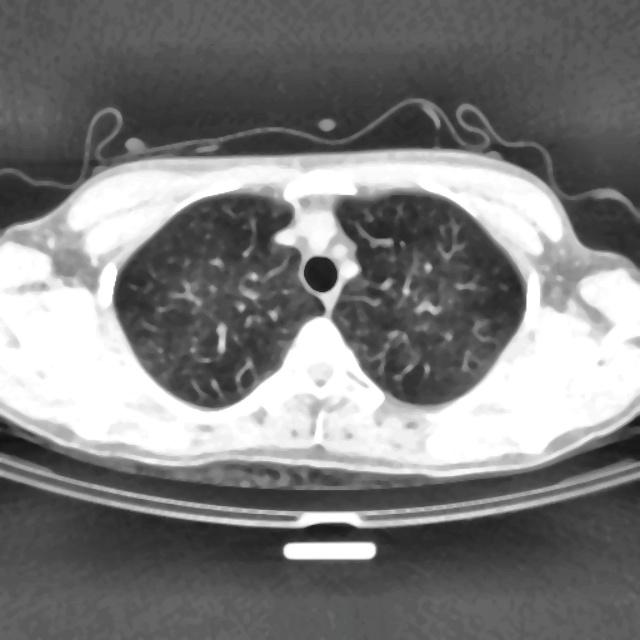covid: (0, 105, 638, 493)
